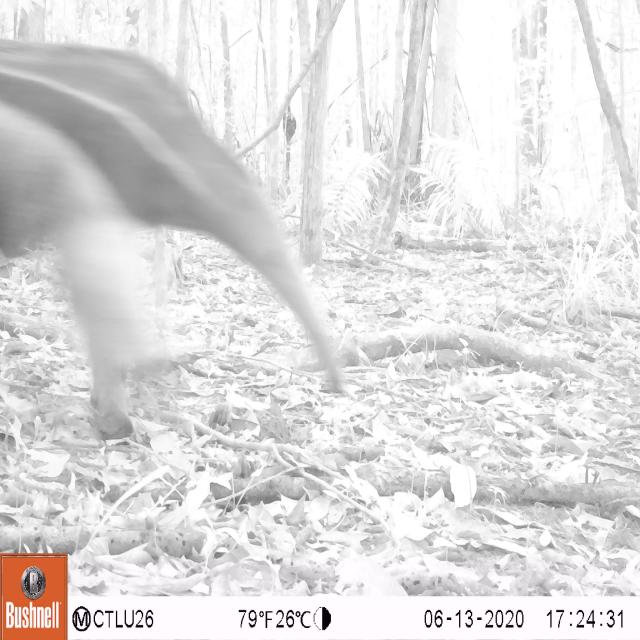Giant Anteater: (0, 22, 358, 434)
